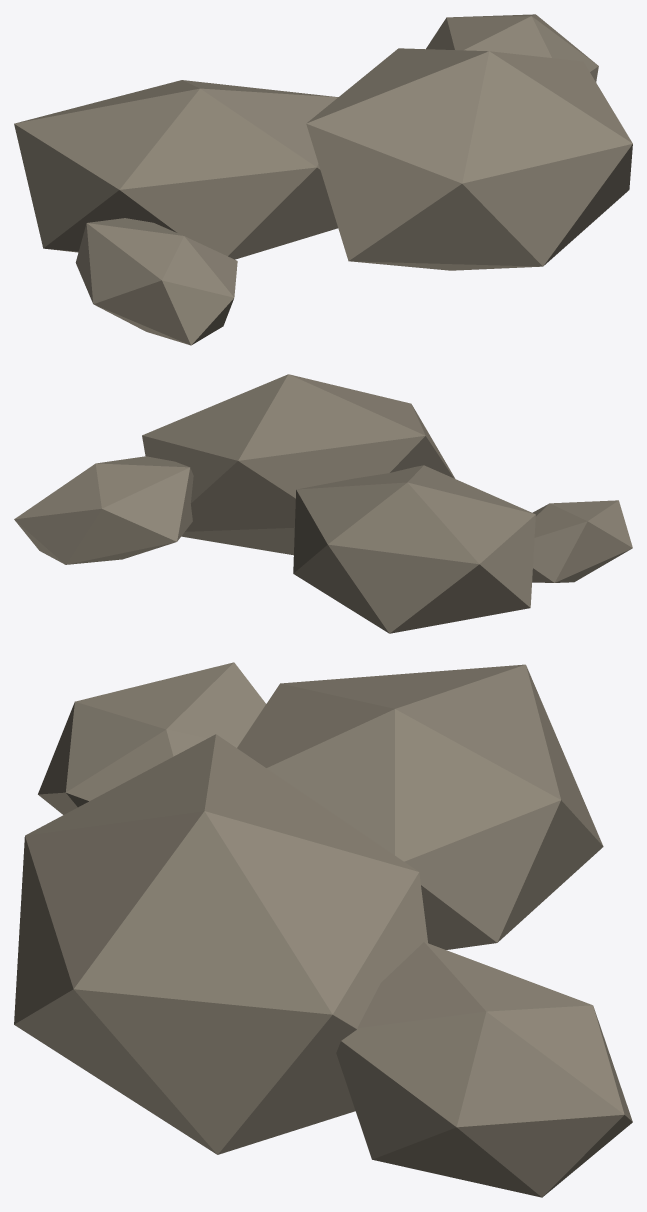
The model's file is old_klim_rock_scatter_b.glb.
3 renders of one model, top to bottom at view 1: azimuth 30°, elevation 25°; view 2: azimuth 150°, elevation 25°; view 3: azimuth 270°, elevation 25°, orthographic. The views are drawn at different scales.
Parts seen in each view (by area): view 1: old_klim_rock_scatter_b_old_klim_ash_beige_rock_ground_detai; view 2: old_klim_rock_scatter_b_old_klim_ash_beige_rock_ground_detai; view 3: old_klim_rock_scatter_b_old_klim_ash_beige_rock_ground_detai.
Boxes of the visible parts, box(x1,y1,x2,y2) form: old_klim_rock_scatter_b_old_klim_ash_beige_rock_ground_detai: box(14, 14, 632, 345); old_klim_rock_scatter_b_old_klim_ash_beige_rock_ground_detai: box(14, 374, 632, 633); old_klim_rock_scatter_b_old_klim_ash_beige_rock_ground_detai: box(14, 662, 632, 1197).
Size of the model in its own units: 1.5 by 0.5075 by 0.9377.
